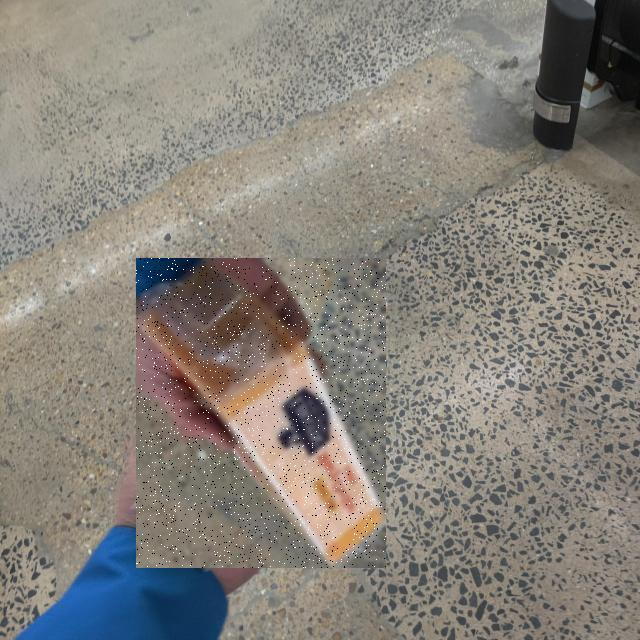Cheese: (136, 258, 386, 568)
